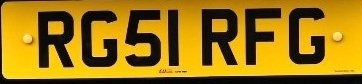character: (35, 9, 74, 69), (200, 7, 239, 66), (124, 7, 161, 66), (243, 7, 281, 64), (80, 9, 117, 67), (288, 7, 324, 64), (165, 7, 180, 67)
